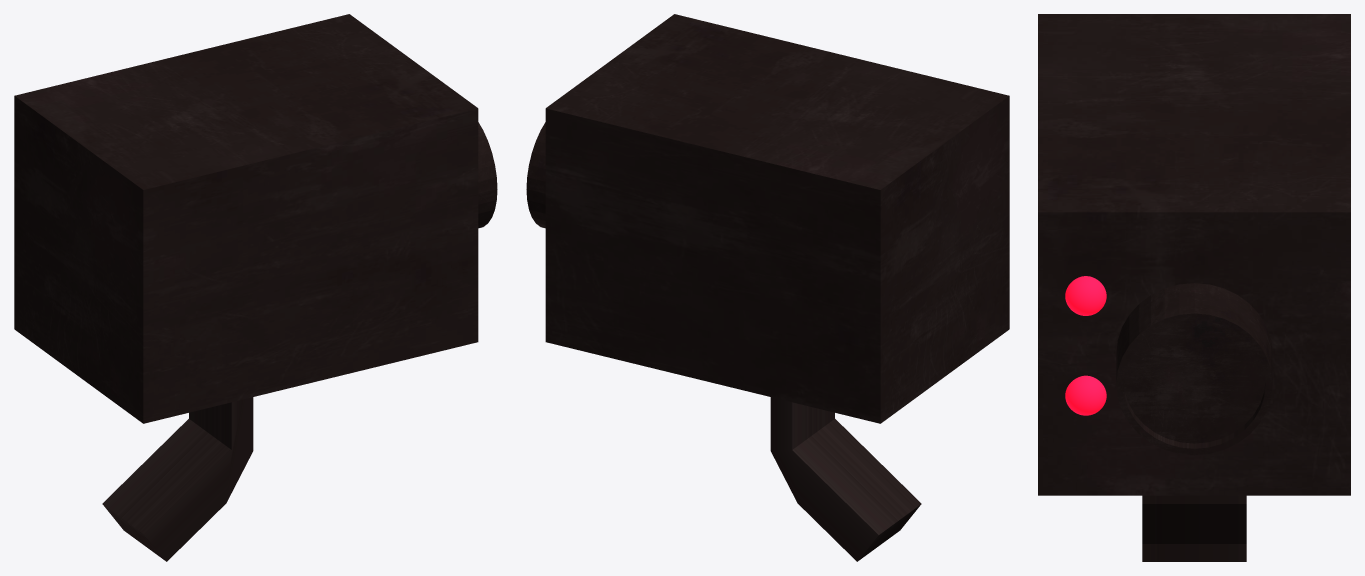
File: kameraL.fbx
3 renders of one model, left to right at view 1: azimuth 30°, elevation 25°; view 2: azimuth 150°, elevation 25°; view 3: azimuth 270°, elevation 25°, orthographic. The views are drawn at different scales.
Parts seen in each view (by area): view 1: KameraL; view 2: KameraL; view 3: KameraL.
Part boxes in pixels (bbox=[...]): KameraL: bbox=[14, 14, 497, 561]; KameraL: bbox=[526, 14, 1009, 561]; KameraL: bbox=[1038, 14, 1350, 561].
Bounding box in the file's own units: 13.84 × 14.36 × 8.
